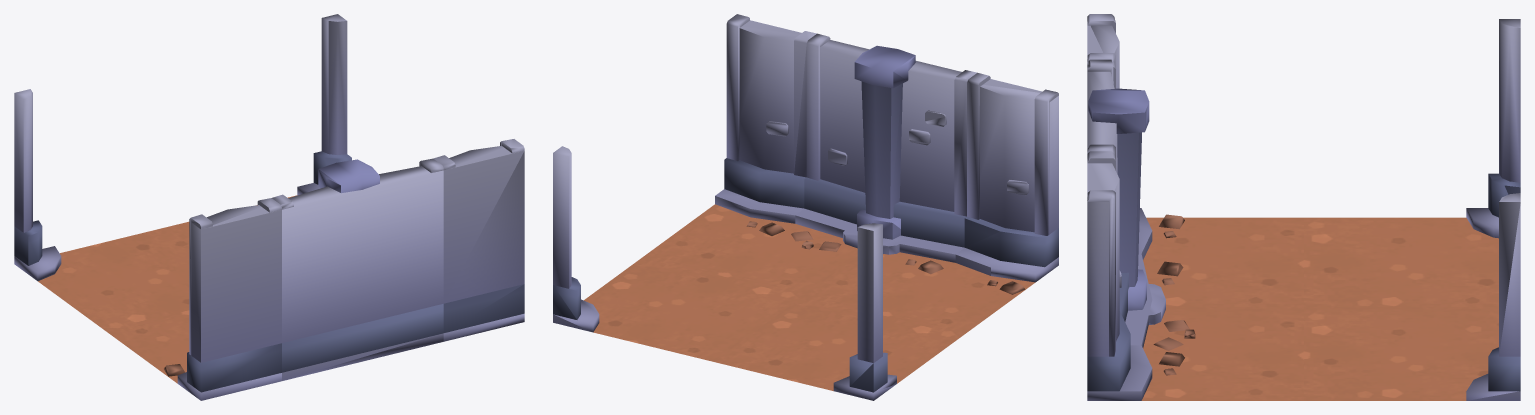
Rendered from corridor-wide-junction.fbx.
3 views of the same model, side by side, from view 1: azimuth 30°, elevation 25°; view 2: azimuth 150°, elevation 25°; view 3: azimuth 270°, elevation 25° (orthographic). The views are drawn at different scales.
Visible parts, largest first — view 1: corridor-wide-junction; view 2: corridor-wide-junction; view 3: corridor-wide-junction.
Boxes of the visible parts, left/top/right/bottom form: corridor-wide-junction: left=14, top=14, right=524, bottom=400; corridor-wide-junction: left=553, top=14, right=1058, bottom=400; corridor-wide-junction: left=1087, top=14, right=1520, bottom=400.
Size of the model in its own units: 800 by 423 by 800.
